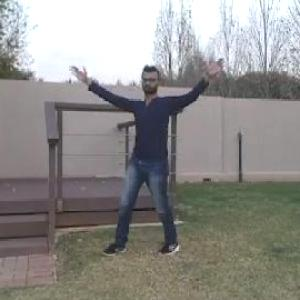takeoff: (68, 59, 226, 262)
